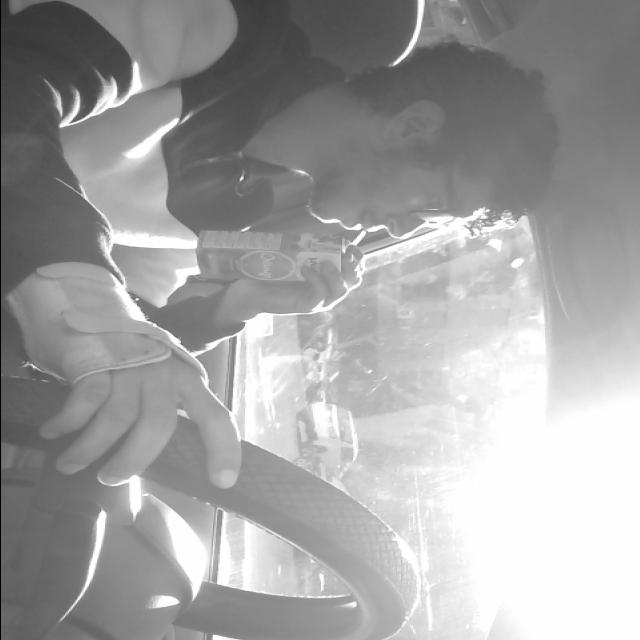drinking: (197, 230, 365, 288)
